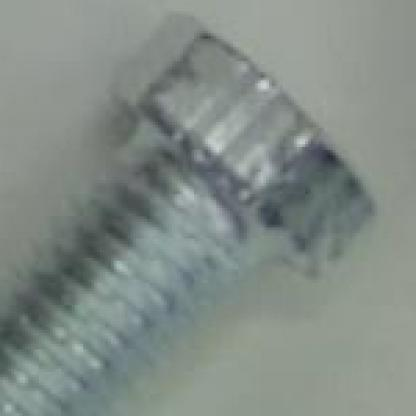FOD: (3, 14, 391, 413)
